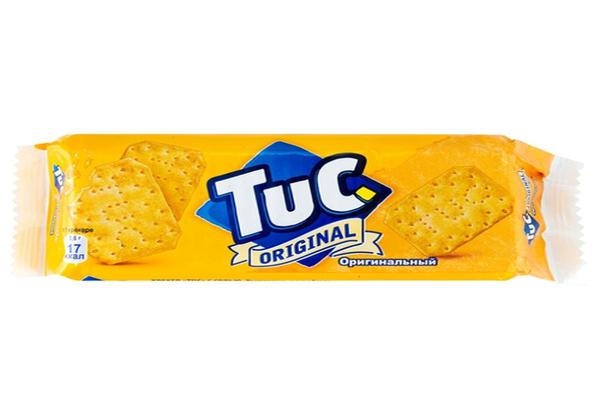crackers tuc: (66, 135, 529, 282)
